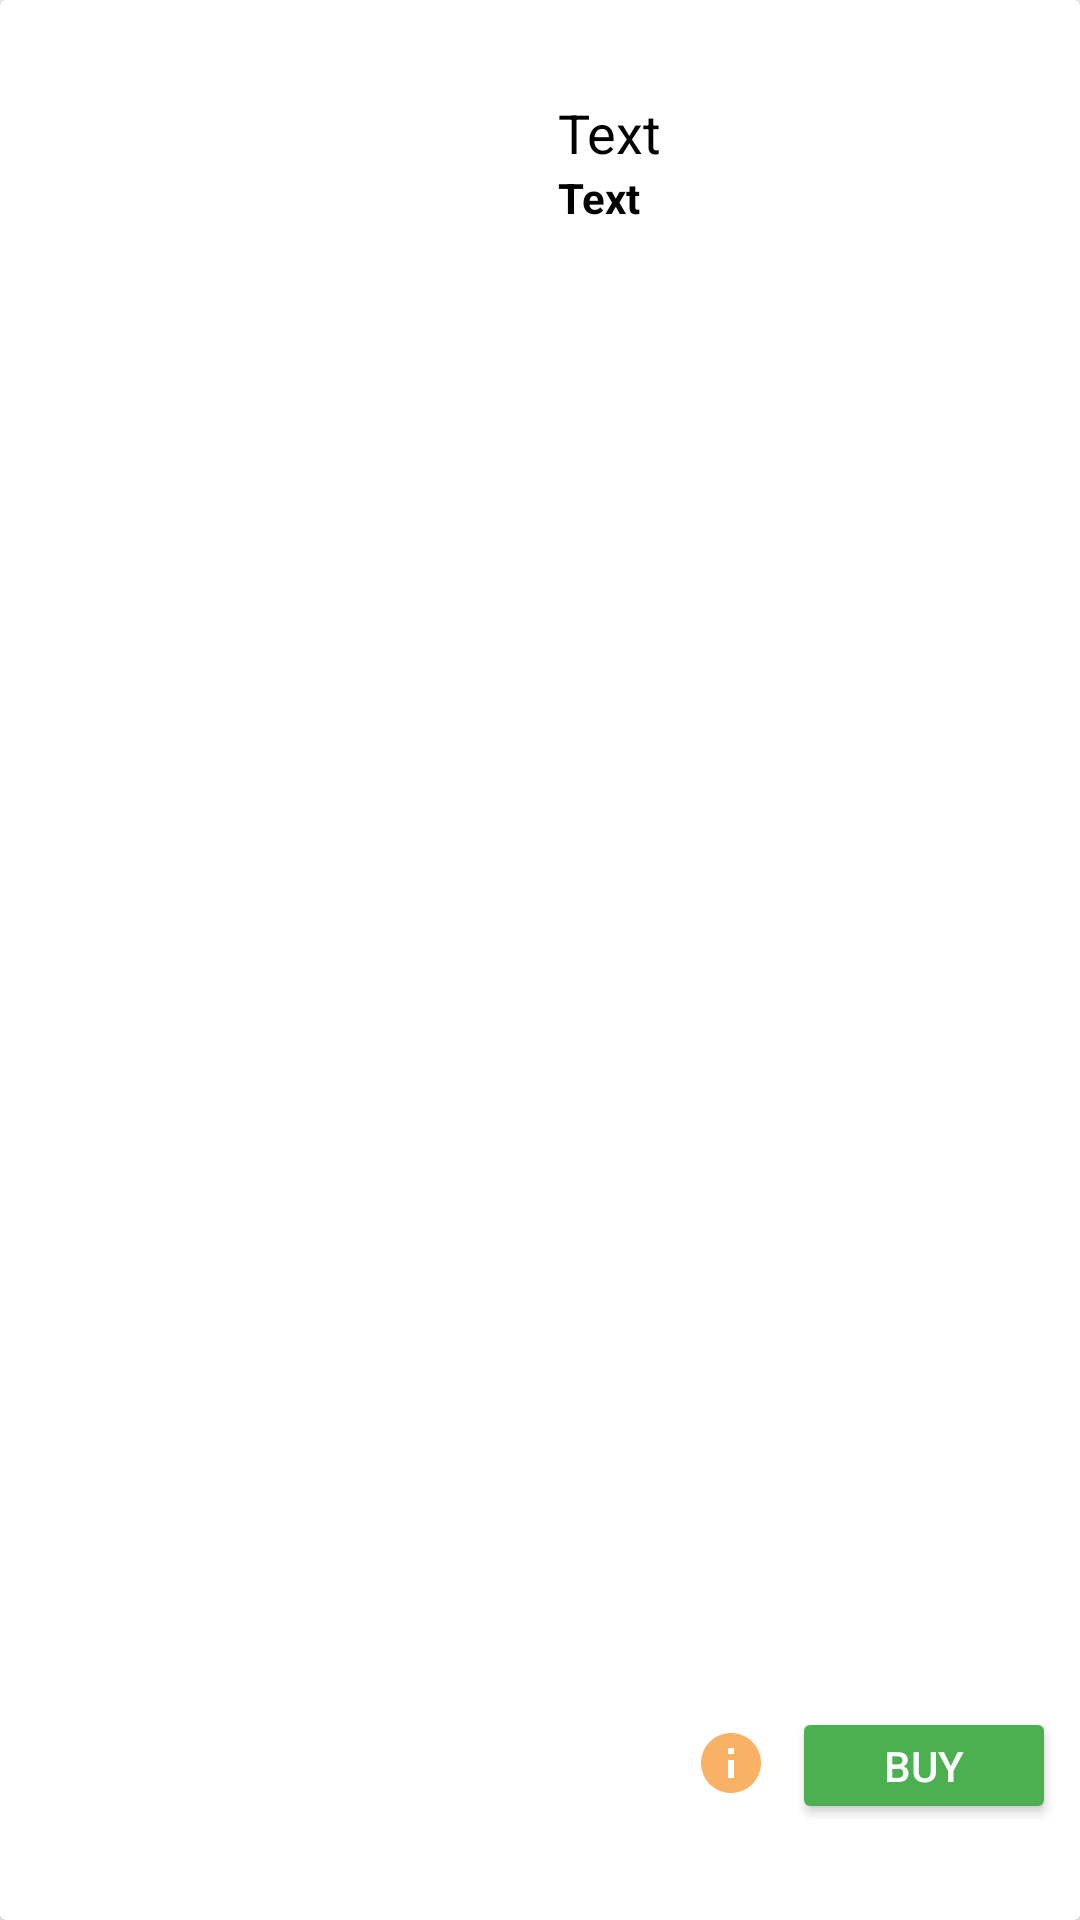

Locate icon controls on the screen. Image size 1080*1920, boxes as [left=x1, top=y1, right=x2, bottom=y2].
product info: [left=701, top=1733, right=761, bottom=1793]
